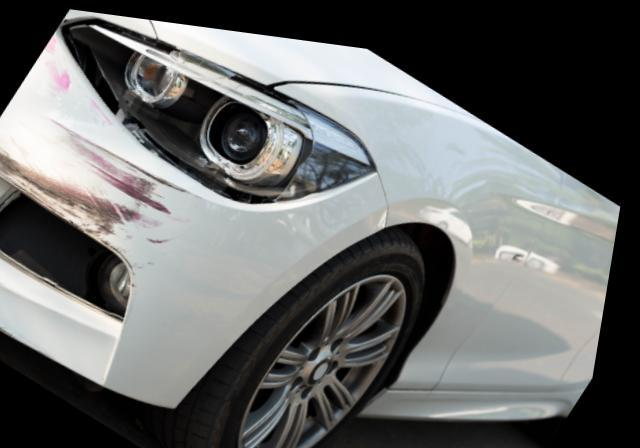lamp broken: (61, 18, 380, 195)
scratch: (0, 39, 199, 262), (0, 281, 33, 340)
